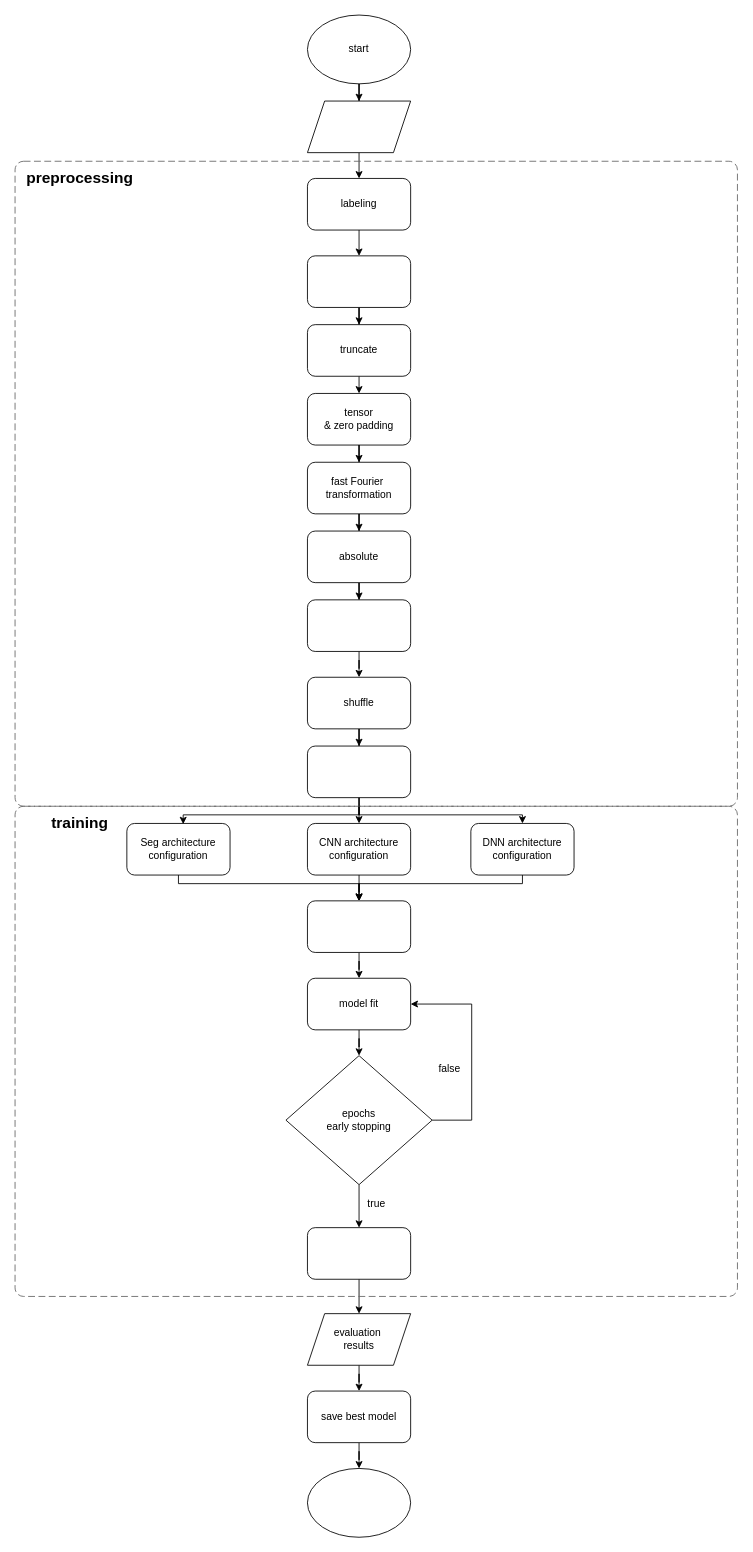
This 753x1552 diagram has some shape labels left out. Each missing label, with the centre of its shape:
"3 dimensional tensor" goes at [359,625].
"decode" goes at [359,281].
"end" goes at [359,1502].
"input data sets" goes at [359,126].
"model configuration" goes at [359,926].
"model evaluation" goes at [359,1253].
"split" goes at [359,771].
